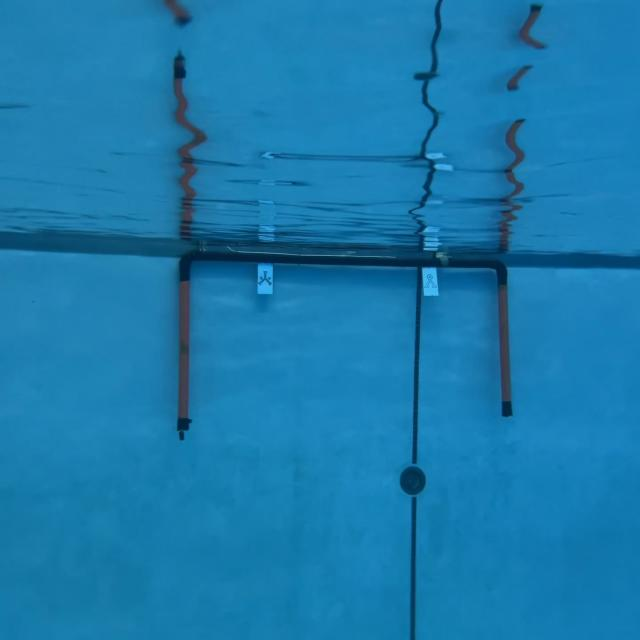abydos: (258, 270, 272, 286)
earth: (423, 271, 438, 290)
gate: (174, 254, 514, 434)
